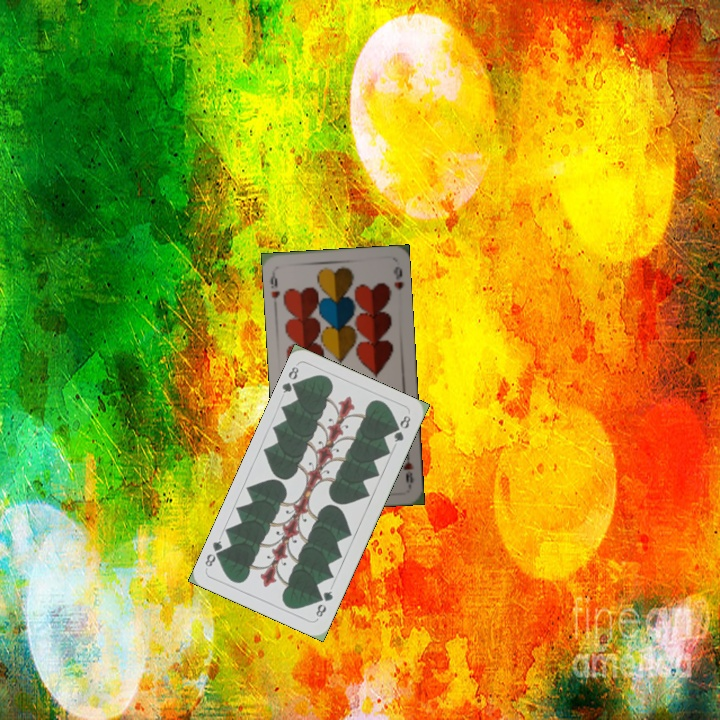G8: (278, 362, 303, 396), (312, 587, 335, 620)
H9: (399, 448, 417, 489), (266, 267, 282, 308)
